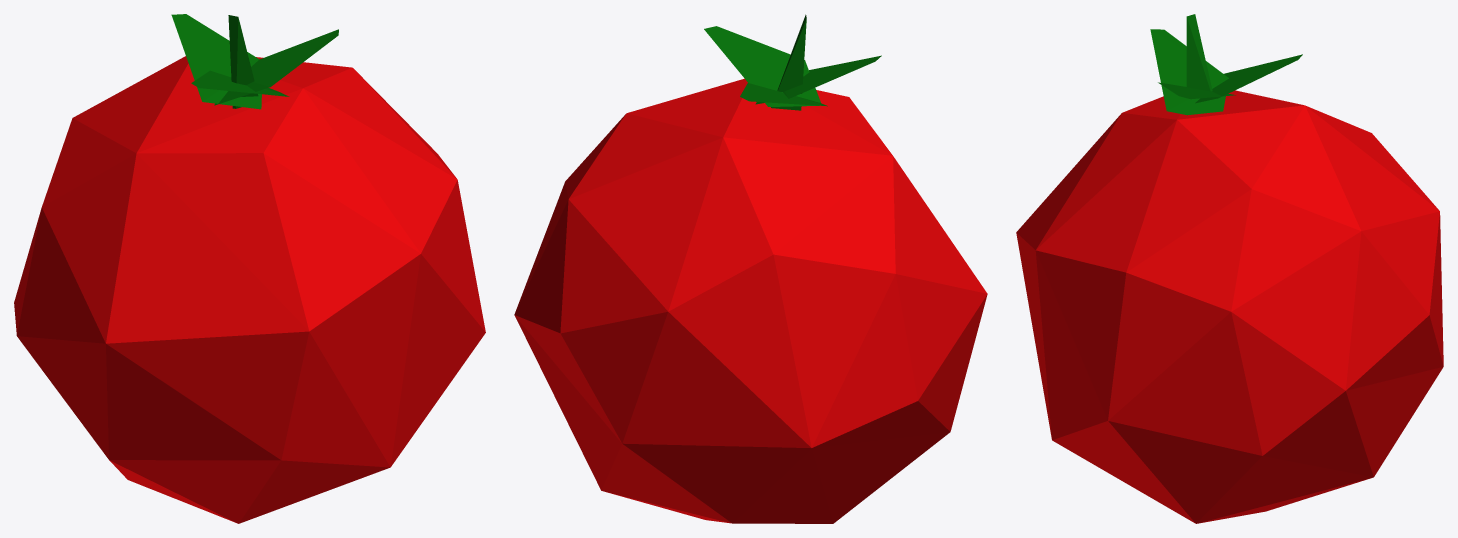
Rendered from tomato.fbx.
3 renders of one model, left to right at view 1: azimuth 30°, elevation 25°; view 2: azimuth 150°, elevation 25°; view 3: azimuth 270°, elevation 25°, orthographic. The views are drawn at different scales.
Visible parts, largest first — view 1: Сфера, Куб.002, Куб.003, Куб, Куб.001; view 2: Сфера, Куб.003, Куб.001, Куб, Куб.002; view 3: Сфера, Куб.001, Куб, Куб.002, Куб.003.
Part boxes in pixels (x1,y1,x2,y2): Сфера: (14, 56, 485, 523); Куб.002: (171, 14, 261, 109); Куб.003: (214, 29, 338, 105); Куб: (228, 15, 258, 108); Куб.001: (191, 70, 289, 96); Сфера: (514, 78, 987, 523); Куб.003: (704, 26, 820, 106); Куб.001: (755, 55, 881, 104); Куб: (771, 14, 806, 110); Куб.002: (740, 83, 827, 106); Сфера: (1016, 90, 1443, 523); Куб.001: (1150, 29, 1228, 115); Куб: (1186, 14, 1212, 91); Куб.002: (1195, 54, 1302, 103); Куб.003: (1158, 82, 1235, 99).
Size of the model in its own units: 17.31 by 20.92 by 17.33.
